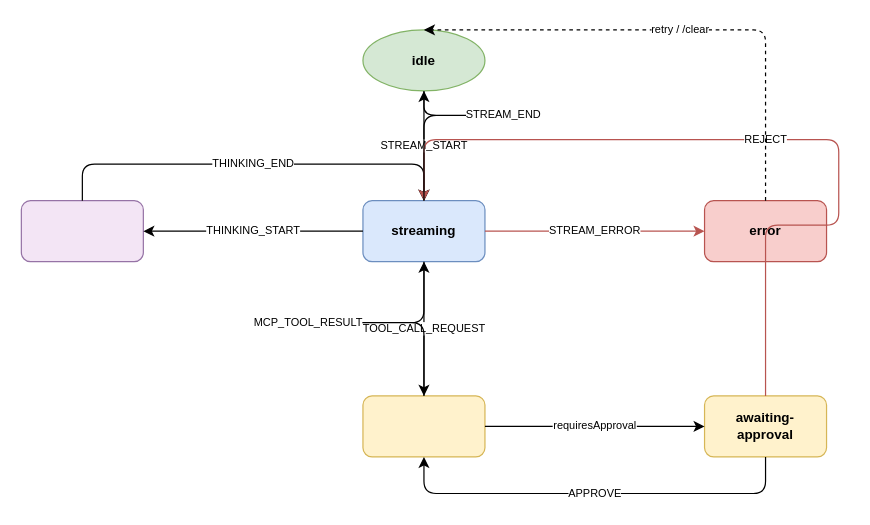
Image size: 870x525. Some labels were removed from this diagram. Here are the shapes that lost their labels. From the top down, the box of each, then its label:
(20, 199, 143, 262): thinking
(362, 395, 485, 457): tool-calling
